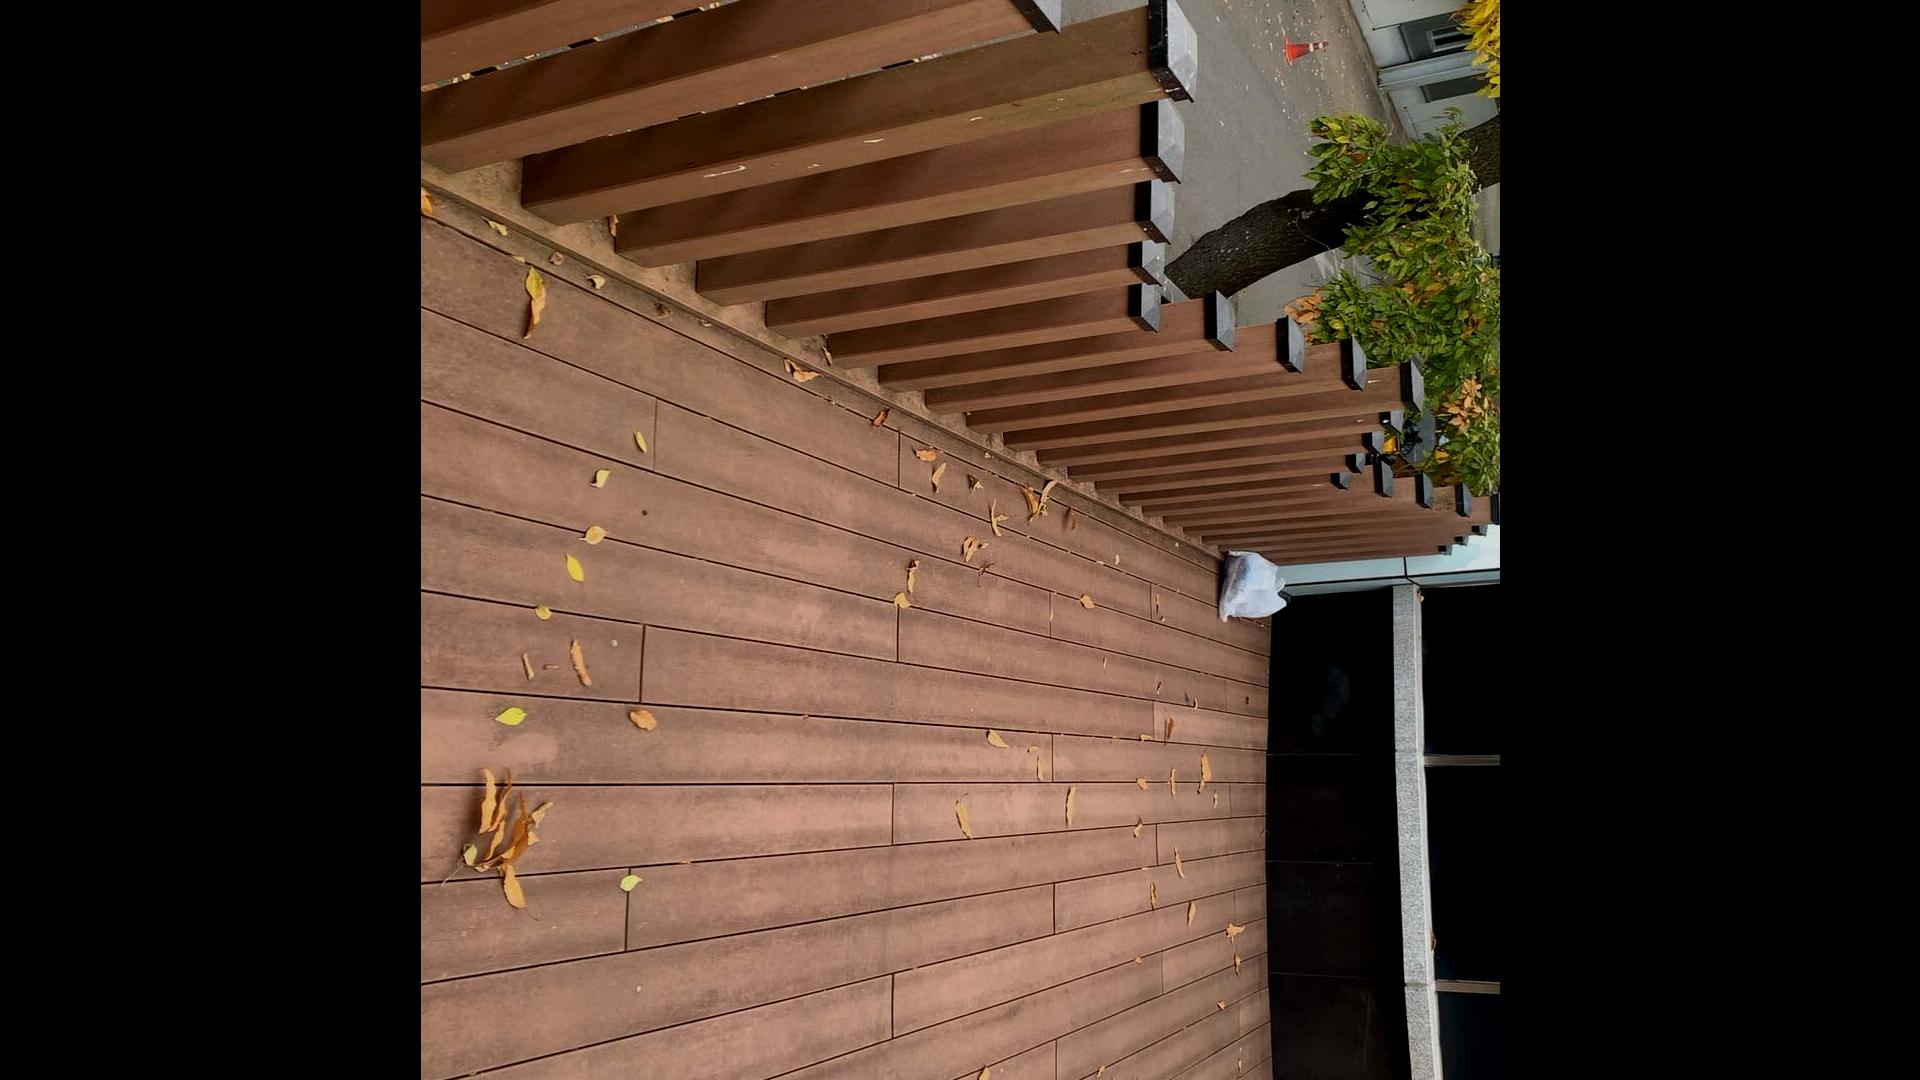white_bag: (1211, 543, 1298, 629)
